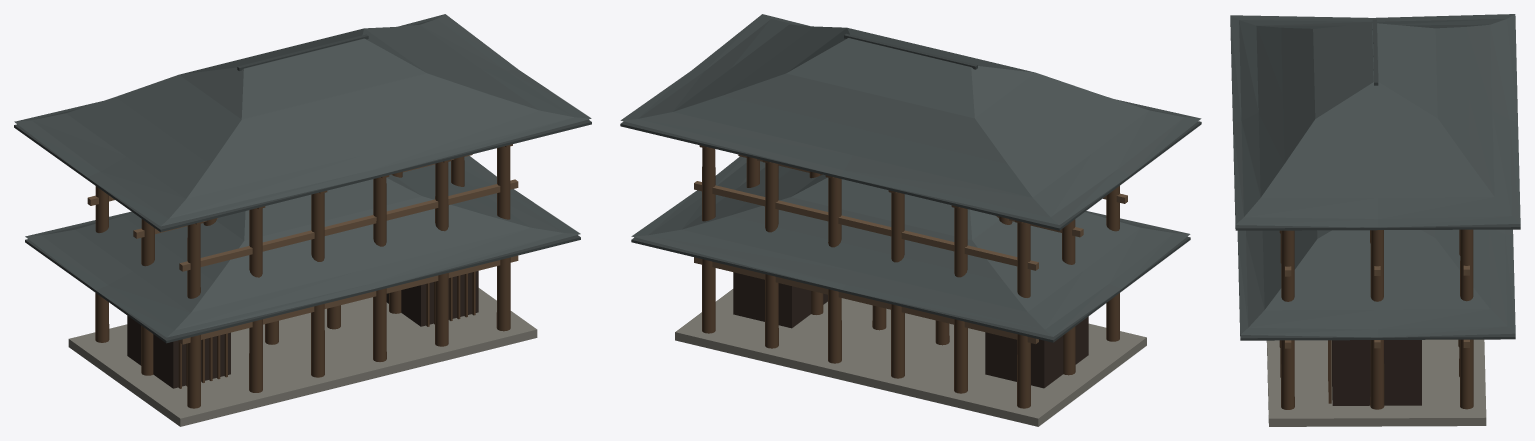
The model's file is todaiji-nandaimon.glb.
3 views of the same model, side by side, from view 1: azimuth 30°, elevation 25°; view 2: azimuth 150°, elevation 25°; view 3: azimuth 270°, elevation 25° (orthographic).
Size of the model in its own units: 41.34 by 26.35 by 24.03.
